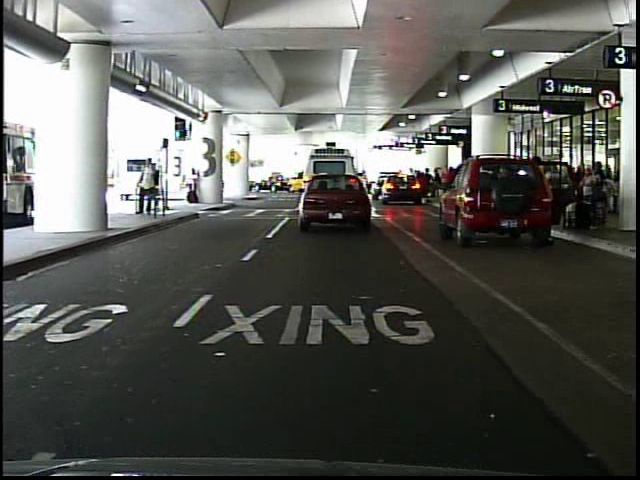person: (529, 153, 559, 234), (136, 155, 157, 218), (151, 161, 167, 217), (184, 167, 203, 207), (440, 163, 457, 201)
